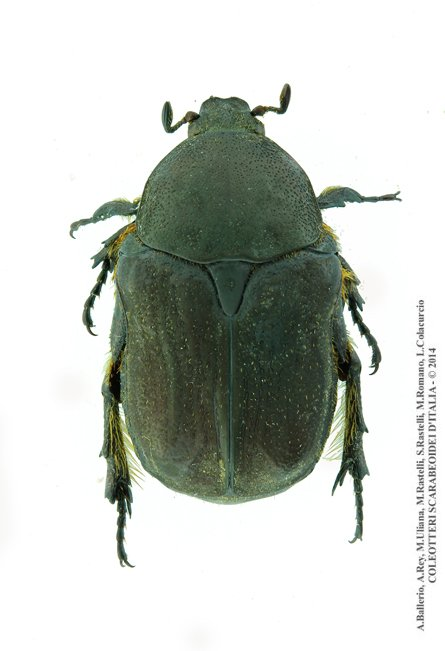Protaetia_oblonga: (58, 66, 416, 572)
